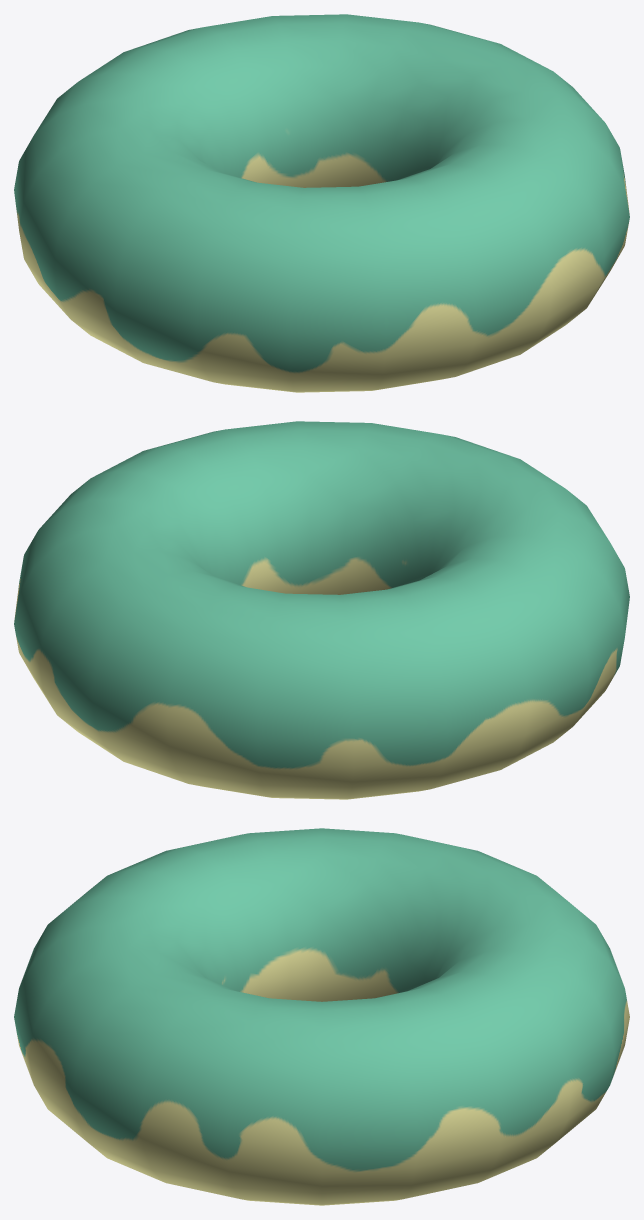
The model's file is Oden_Donut.gltf.
3 renders of one model, top to bottom at view 1: azimuth 30°, elevation 25°; view 2: azimuth 150°, elevation 25°; view 3: azimuth 270°, elevation 25°, orthographic.
Parts seen in each view (by area): view 1: Oden_Donut; view 2: Oden_Donut; view 3: Oden_Donut.
Part boxes in pixels (x1,y1,x2,y2): Oden_Donut: (14, 14, 629, 392); Oden_Donut: (14, 421, 629, 799); Oden_Donut: (14, 828, 629, 1205).
Bounding box in the file's own units: 2.1 × 0.7008 × 2.1.
1 material, 1 textured.
